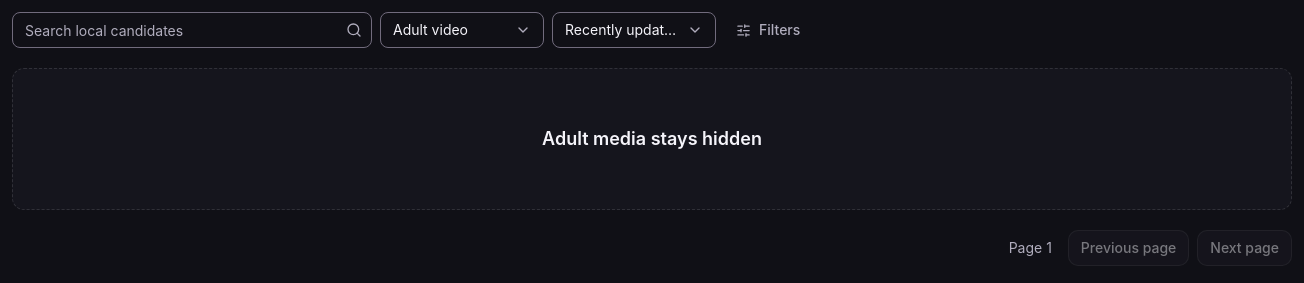
Test: does not fetch or render the adult type while its setting is disabled
Click the dropdown named "Media type" at (462, 30), box 380,12 -> 544,48
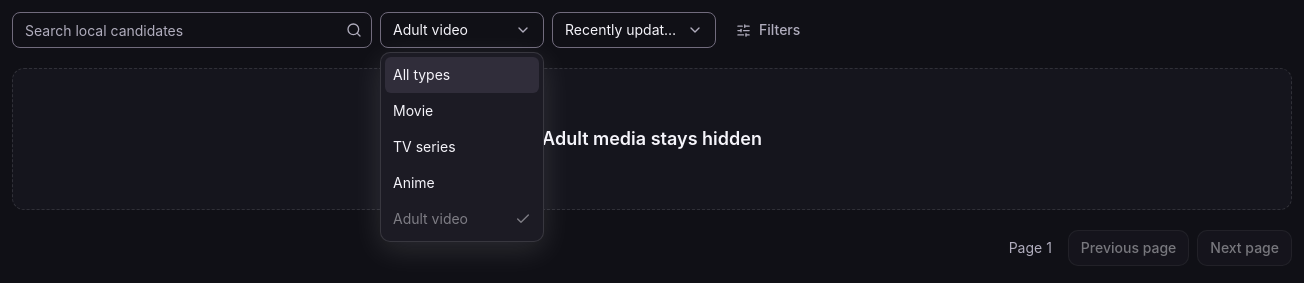
Expected: the option "Adult video" is disabled, 385,201 -> 539,237
